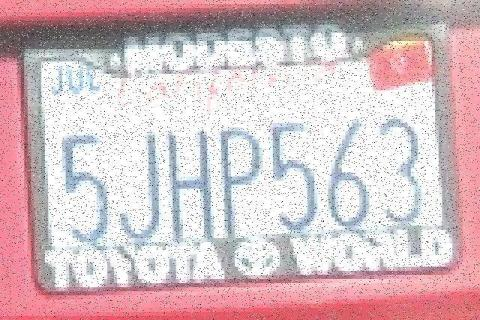LicensePlate: (16, 30, 471, 300)
